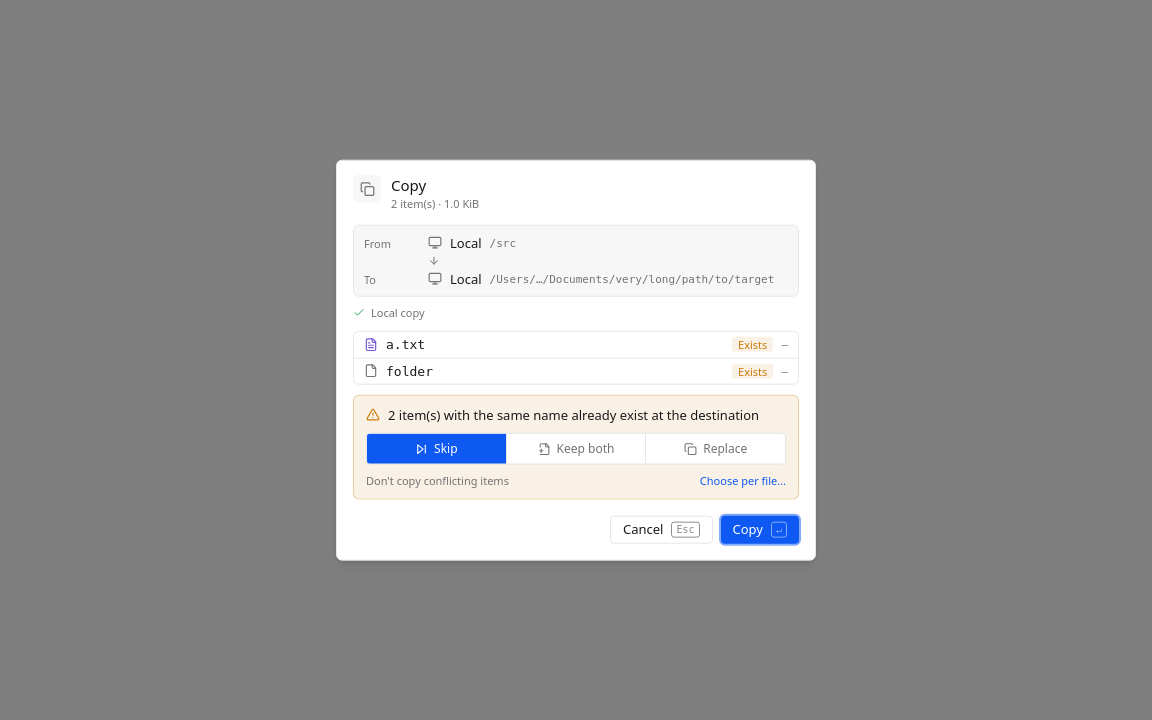
Test: CopyMoveConfirmDialog › 파일/폴더 교체 범위별 경고와 복원 안내 (항목별=true)
Click the radio button labelled "Replace". click: (716, 449)
box: x1=646 y1=434 x2=785 y2=464
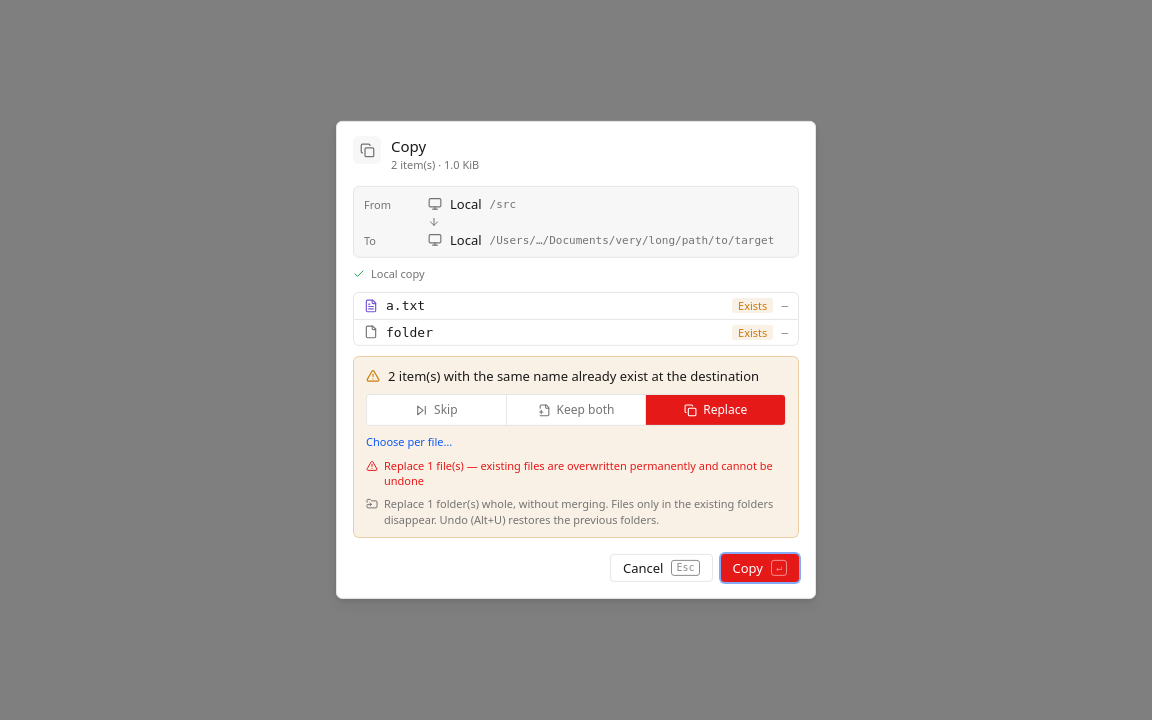
Click the button "Choose per file…". click: (409, 442)
box: x1=366 y1=434 x2=452 y2=450
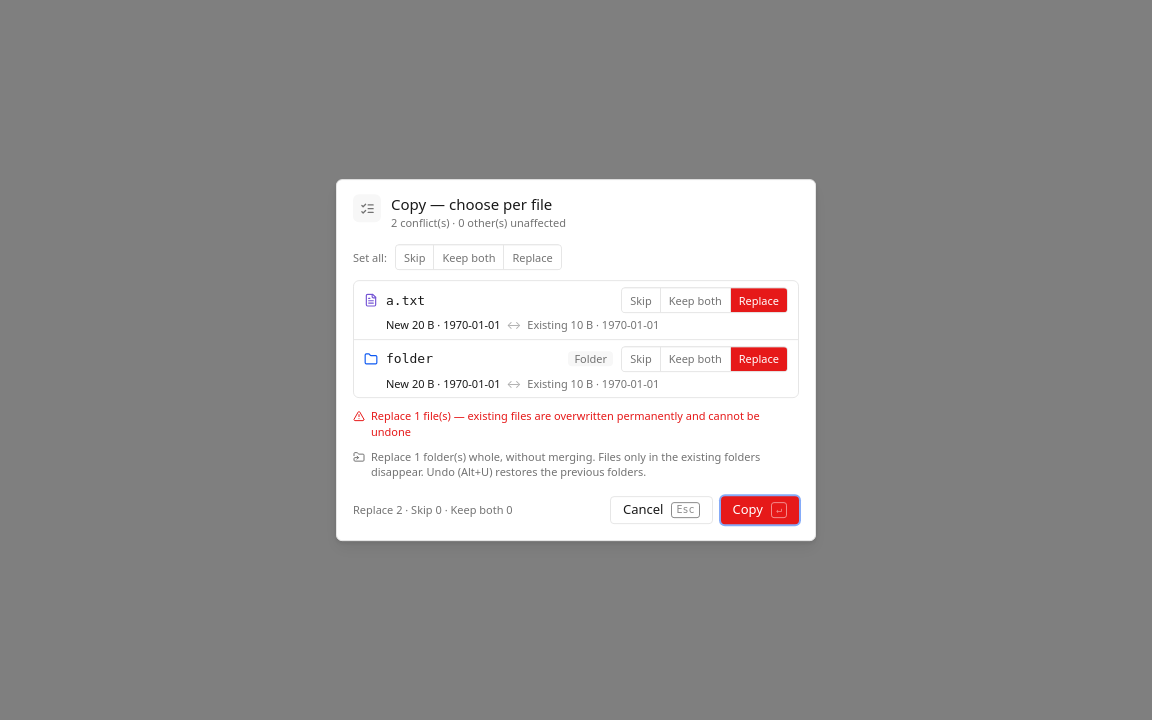
Result: the text "Replace 1 folder(s) whole, without merging" is shown at x1=371 y1=449 x2=760 y2=480
Result: the text "Alt+U" is shown at x1=427 y1=464 x2=646 y2=480
Click the radio button labelled "Skip" in the row of "a.txt". click: (641, 300)
box: x1=622 y1=288 x2=660 y2=312
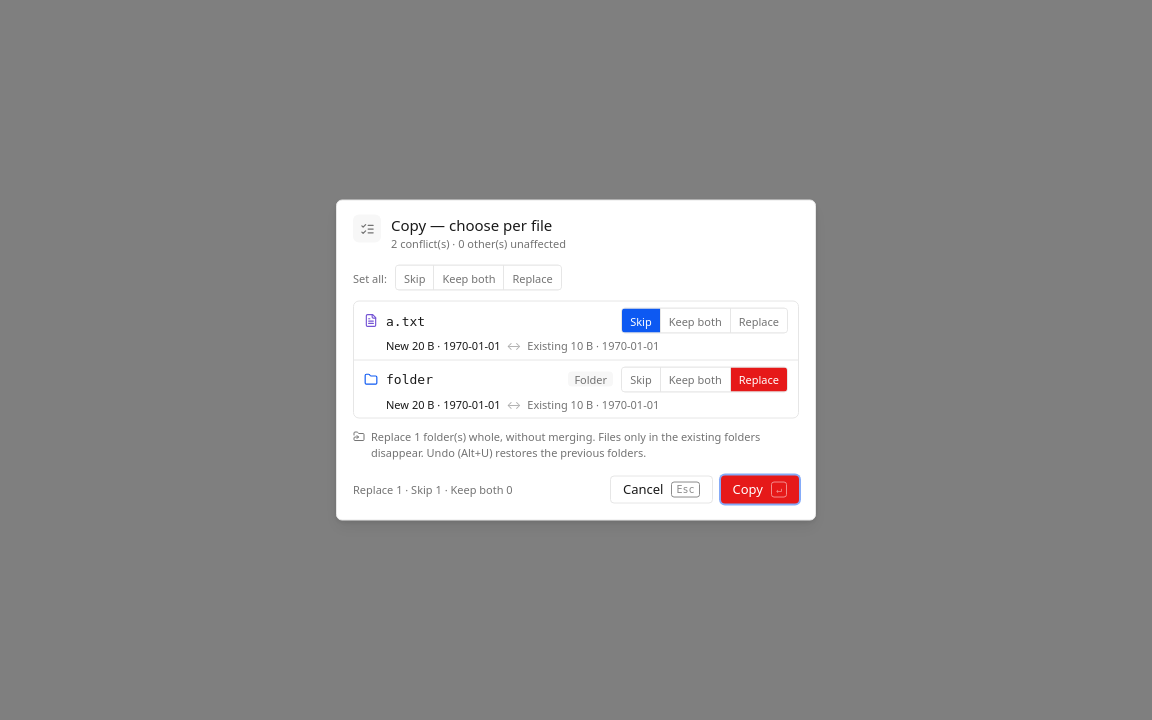
Result: the text "Replace 1 folder(s) whole" is shown at x1=371 y1=429 x2=760 y2=459
Result: the text "cannot be undone" is gone
Click the radio button labelled "Keep both" in the row of "a.txt". click: (695, 321)
box: x1=661 y1=309 x2=730 y2=333
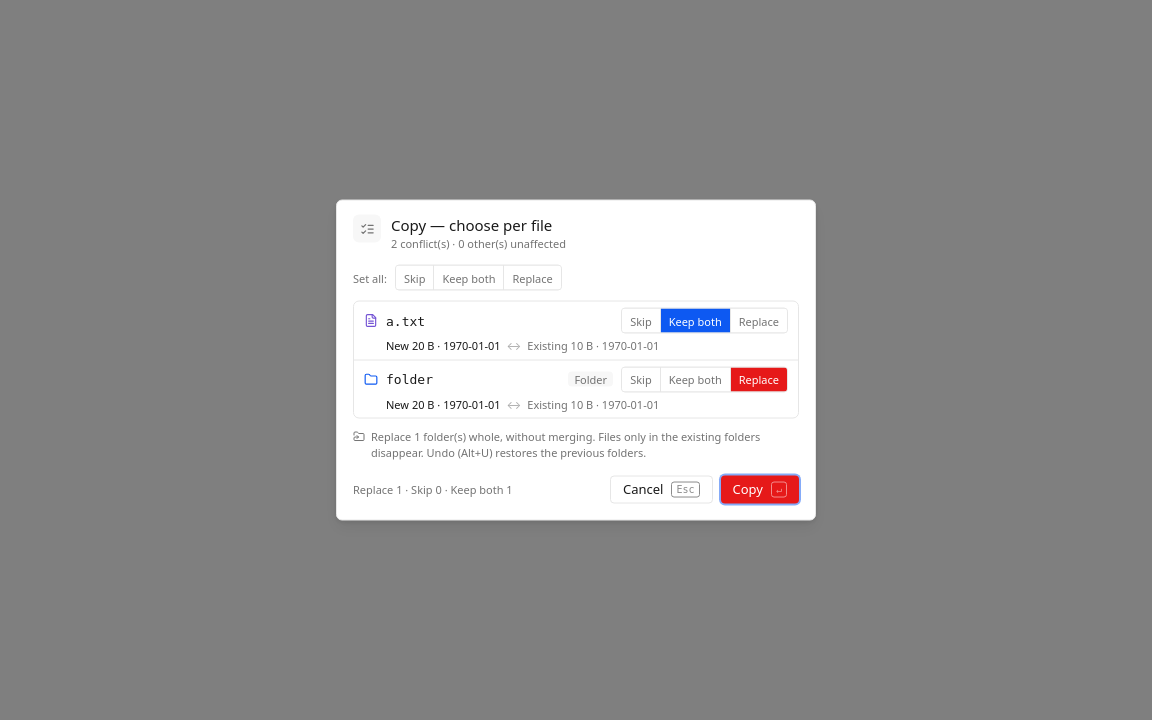
Click the 3rd radio button labelled "Skip". click: (641, 379)
box: x1=622 y1=367 x2=660 y2=391
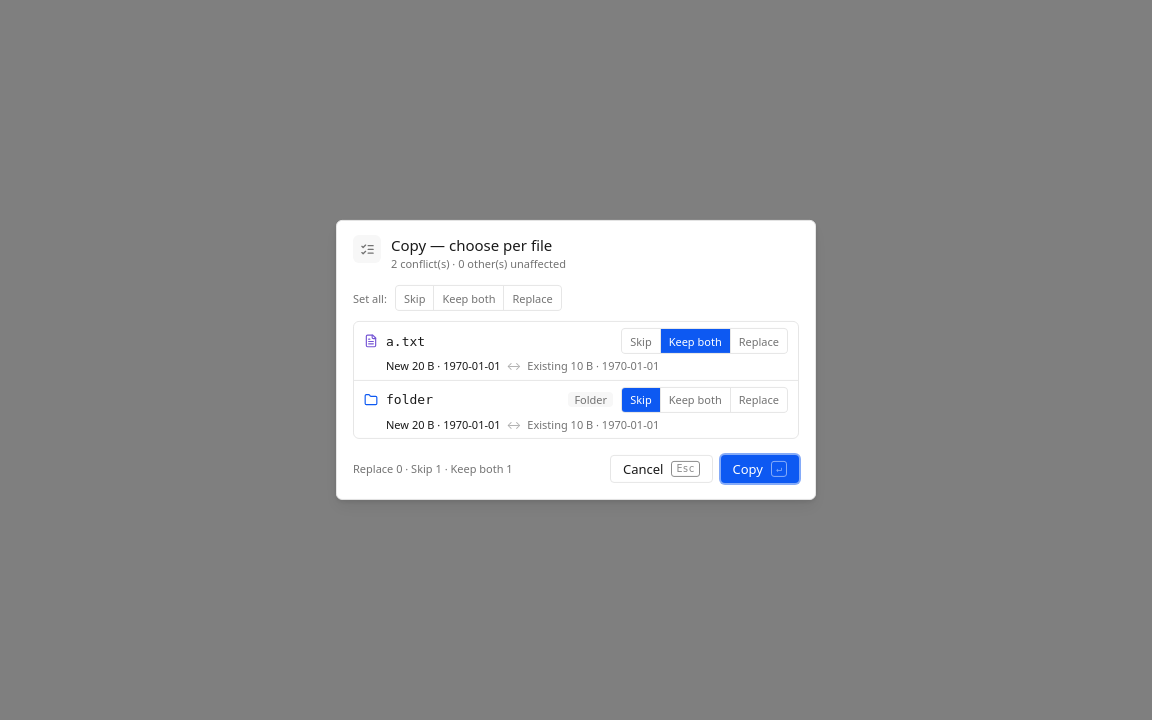
Result: the text "whole, without merging" is gone
